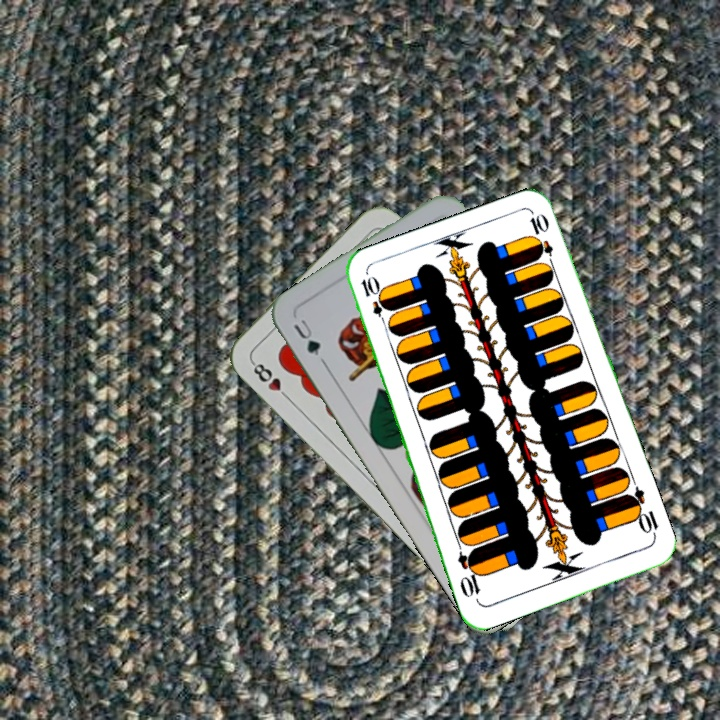E10: (622, 484, 661, 541), (357, 272, 391, 330)
GU: (289, 315, 323, 359)
H8: (247, 357, 294, 403)
